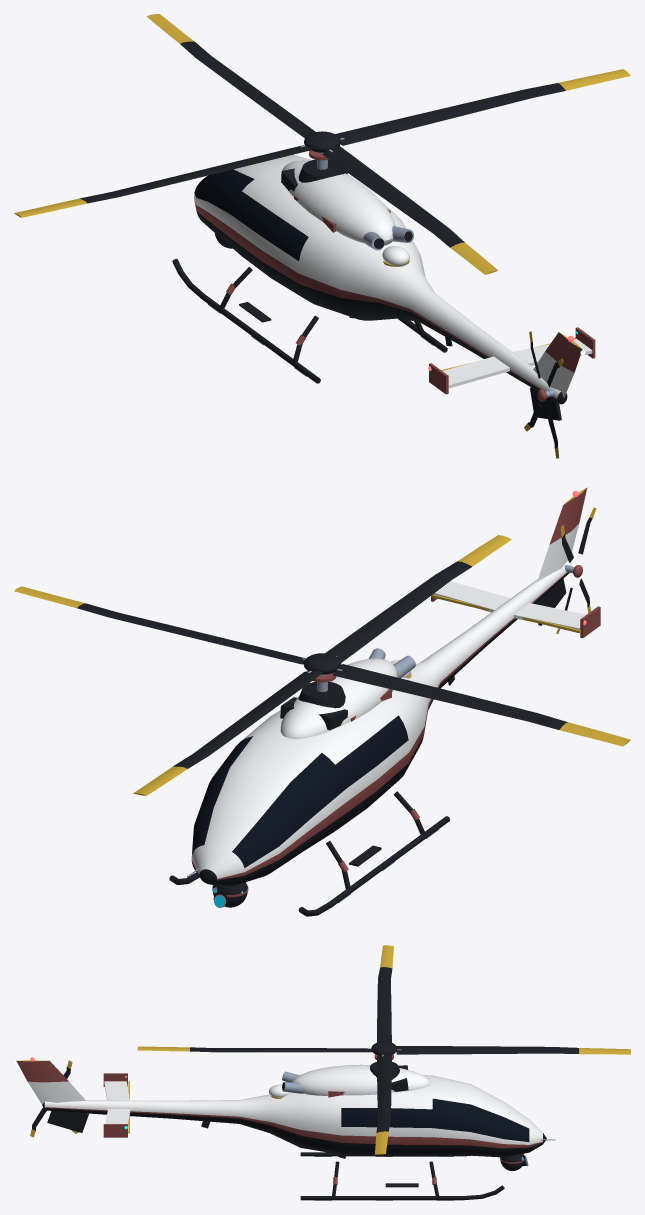
File: tv_helicopter.glb
3 views of the same model, one above another, from view 1: azimuth 30°, elevation 25°; view 2: azimuth 150°, elevation 25°; view 3: azimuth 270°, elevation 25° (orthographic). The views are drawn at different scales.
Parts seen in each view (by area): view 1: TV_Heli_Fuselage, TV_Heli_Main_Rotor, TV_Heli_Skids, TV_Heli_Tail_Rotor; view 2: TV_Heli_Fuselage, TV_Heli_Main_Rotor, TV_Heli_Skids, TV_Heli_Tail_Rotor, TV_Heli_Cineflex_Gimbal; view 3: TV_Heli_Fuselage, TV_Heli_Main_Rotor, TV_Heli_Skids.
Part boxes in pixels (x1=…): TV_Heli_Fuselage: x1=194, y1=155, x2=595, y2=420; TV_Heli_Main_Rotor: x1=14, y1=14, x2=630, y2=274; TV_Heli_Skids: x1=172, y1=258, x2=447, y2=383; TV_Heli_Tail_Rotor: x1=524, y1=331, x2=563, y2=458; TV_Heli_Fuselage: x1=187, y1=487, x2=600, y2=886; TV_Heli_Main_Rotor: x1=14, y1=535, x2=630, y2=795; TV_Heli_Skids: x1=169, y1=791, x2=449, y2=916; TV_Heli_Tail_Rotor: x1=556, y1=507, x2=596, y2=633; TV_Heli_Cineflex_Gimbal: x1=212, y1=882, x2=248, y2=907; TV_Heli_Fuselage: x1=14, y1=1057, x2=555, y2=1158; TV_Heli_Main_Rotor: x1=137, y1=945, x2=630, y2=1154; TV_Heli_Skids: x1=300, y1=1152, x2=504, y2=1200.
Size of the model in its own units: 9.7 by 2.92 by 12.13.
